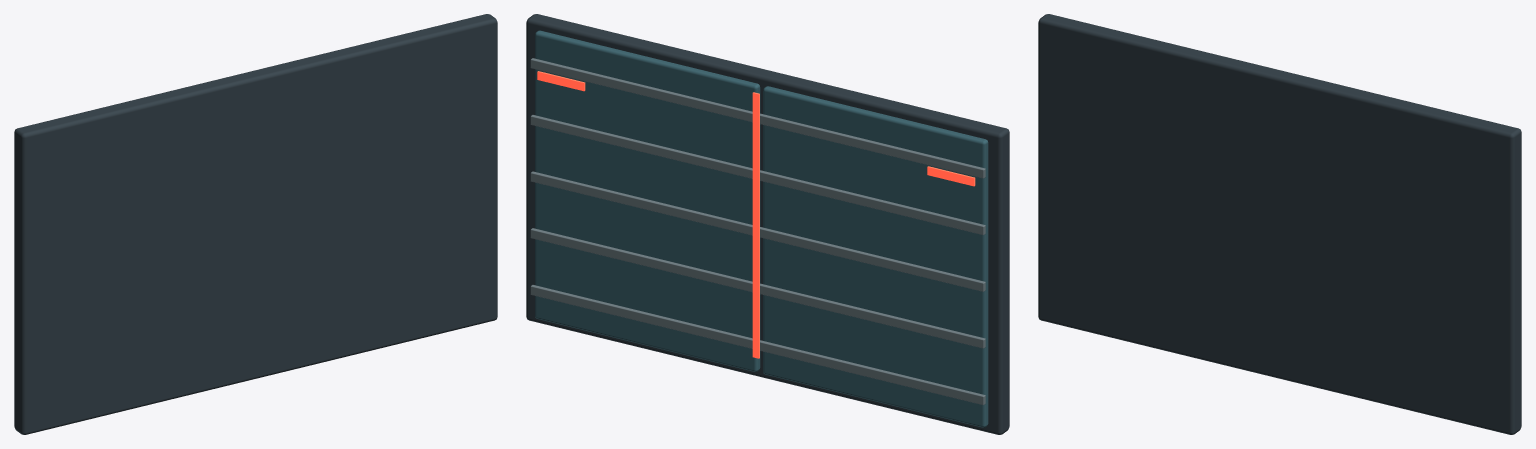
File: security-gate.glb
3 views of the same model, side by side, from view 1: azimuth 30°, elevation 25°; view 2: azimuth 150°, elevation 25°; view 3: azimuth 330°, elevation 25° (orthographic).
Parts seen in each view (by area): view 1: Security shutter / Gunmetal; view 2: Security shutter / Port teal paint, Security shutter / Brushed titanium, Security shutter / Gunmetal, Security shutter / Hostile sensor; view 3: Security shutter / Gunmetal.
Part boxes in pixels (x1,y1,x2,y2): Security shutter / Gunmetal: (14, 14, 497, 434); Security shutter / Port teal paint: (535, 30, 988, 427); Security shutter / Brushed titanium: (530, 58, 985, 405); Security shutter / Gunmetal: (526, 14, 1009, 434); Security shutter / Hostile sensor: (537, 71, 975, 358); Security shutter / Gunmetal: (1038, 14, 1521, 434).
Size of the model in its own units: 6.6 by 4 by 0.4125.
